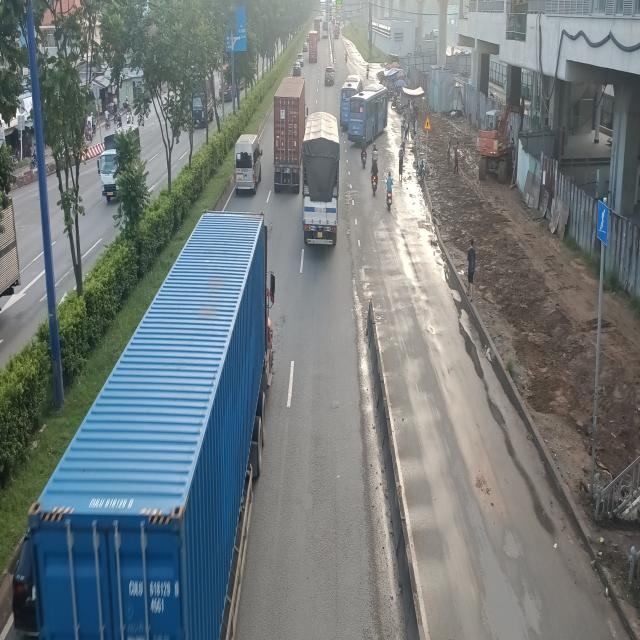coach: (350, 92, 388, 145), (339, 75, 362, 127)
container: (17, 213, 272, 638), (274, 76, 308, 193)
truck: (302, 110, 343, 248)
van: (234, 135, 264, 197)
